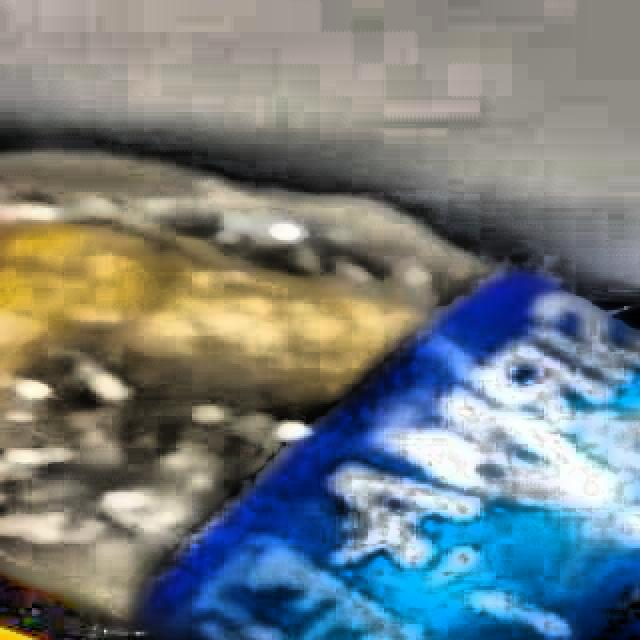plastic: (0, 155, 640, 640)
